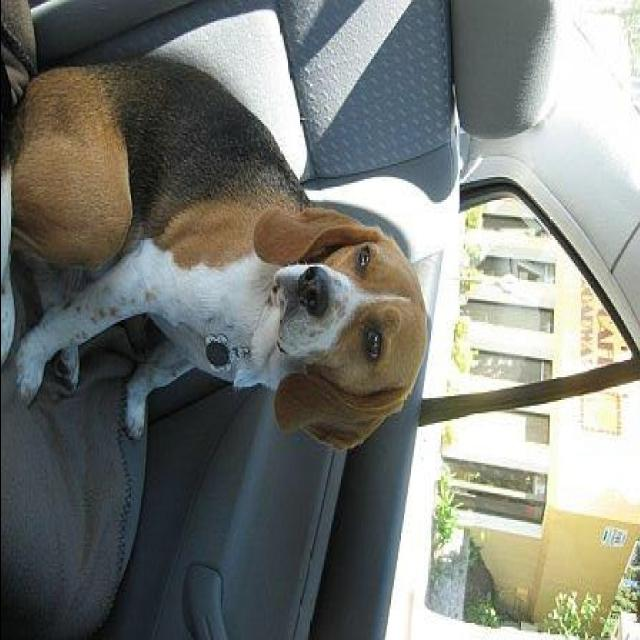beagle: (3, 49, 431, 446)
